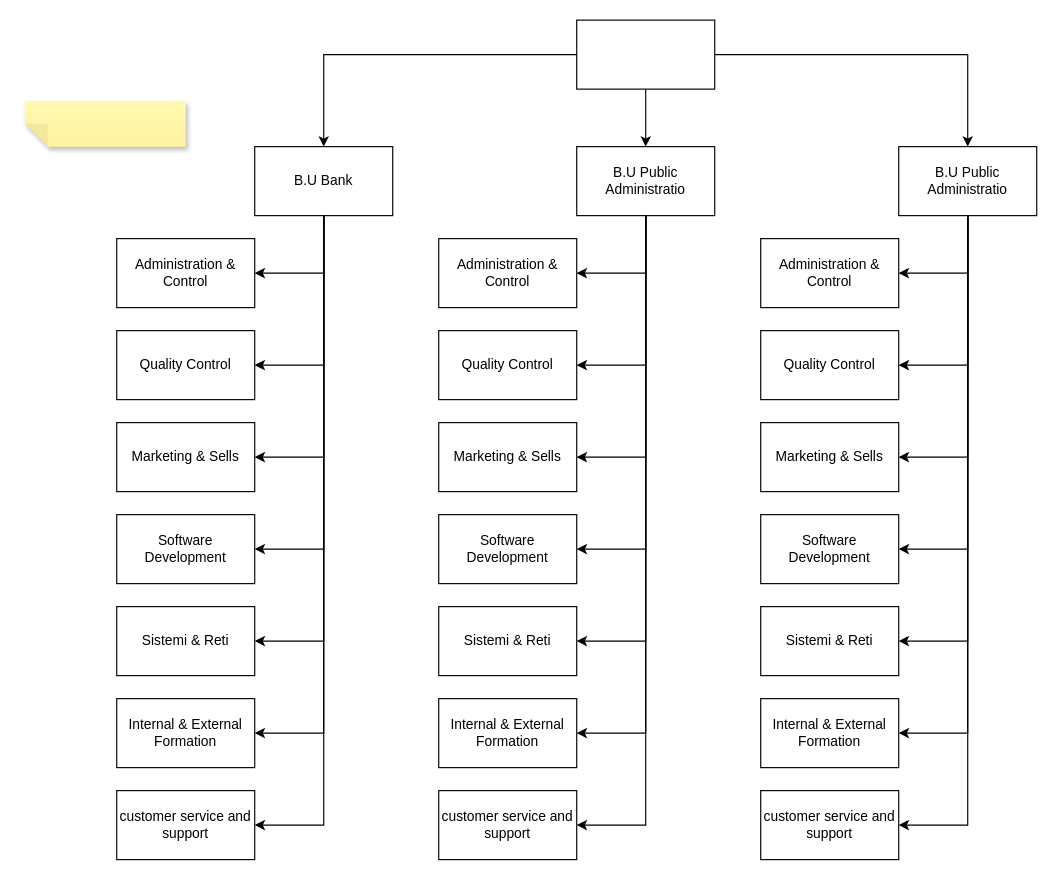
The diagram is 1057 pixels wide and 880 high, and some of its shapes have lost their labels. Here are the shapes that lost their labels. From the top down, the centre of each, then its label:
pixel 645 54: Director
pixel 106 124: B.U Stands For Business Unit
